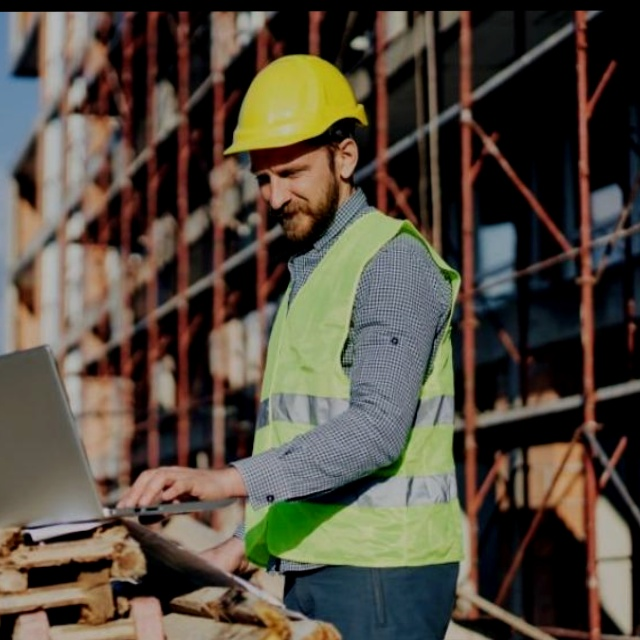Con_Casco: (223, 51, 366, 236)
Con_Chaleco: (236, 222, 462, 571)
